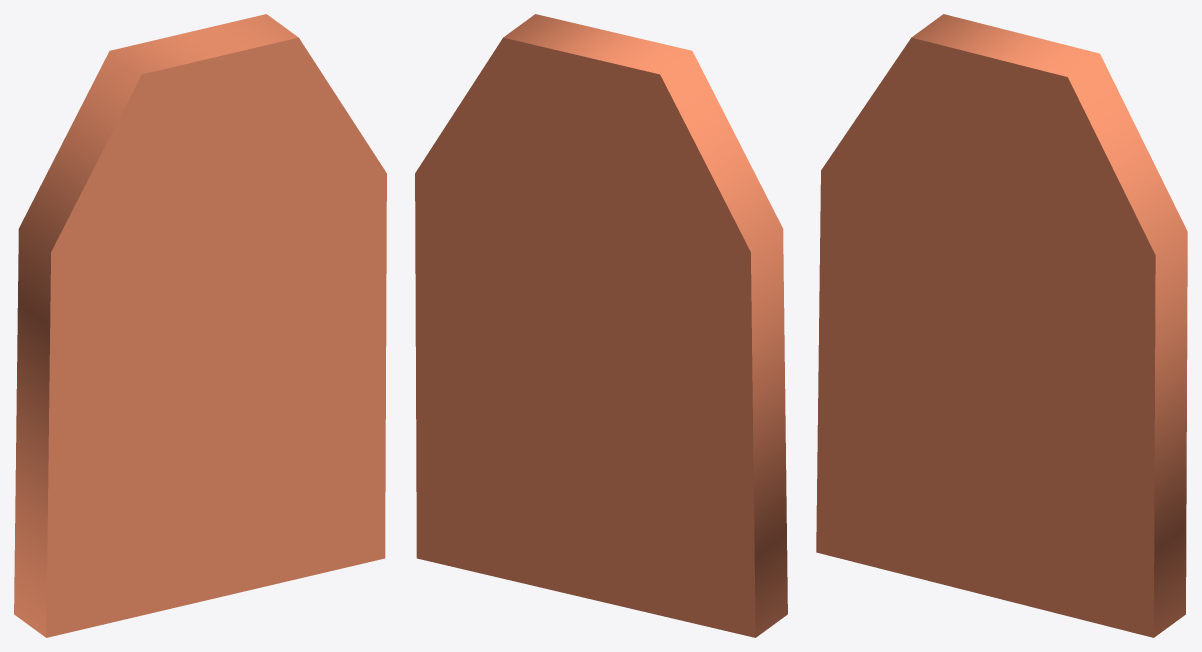
Rendered from brinco_etiqueta.fbx.
3 views of the same model, side by side, from view 1: azimuth 30°, elevation 25°; view 2: azimuth 150°, elevation 25°; view 3: azimuth 330°, elevation 25° (orthographic).
Visible parts, largest first — view 1: brinco_etiqueta; view 2: brinco_etiqueta; view 3: brinco_etiqueta.
Boxes of the visible parts, box(x1,y1,x2,y2) form: brinco_etiqueta: box(14, 14, 386, 637); brinco_etiqueta: box(415, 14, 787, 637); brinco_etiqueta: box(816, 14, 1187, 637).
Bounding box in the file's own units: 9.89 × 15.07 × 1.62.
